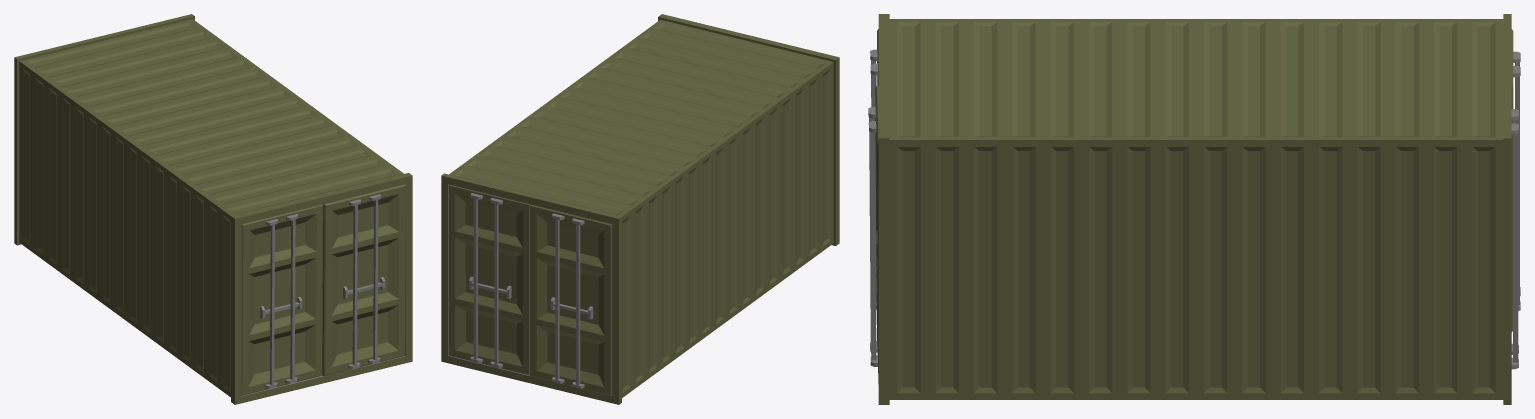
Rendered from model_cargo_container_green.fbx.
3 views of the same model, side by side, from view 1: azimuth 30°, elevation 25°; view 2: azimuth 150°, elevation 25°; view 3: azimuth 270°, elevation 25° (orthographic). The views are drawn at different scales.
Visible parts, largest first — view 1: model_cargo_container_green, model_cargo_container_door4, model_cargo_container_door3; view 2: model_cargo_container_green, model_cargo_container_door2, model_cargo_container_door1; view 3: model_cargo_container_green, model_cargo_container_door4, model_cargo_container_door1, model_cargo_container_door2, model_cargo_container_door3.
Boxes of the visible parts, x1=… form: model_cargo_container_green: x1=14, y1=14, x2=412, y2=404; model_cargo_container_door4: x1=322, y1=184, x2=405, y2=376; model_cargo_container_door3: x1=241, y1=204, x2=323, y2=395; model_cargo_container_green: x1=441, y1=14, x2=839, y2=404; model_cargo_container_door2: x1=530, y1=204, x2=612, y2=396; model_cargo_container_door1: x1=448, y1=184, x2=529, y2=375; model_cargo_container_green: x1=878, y1=14, x2=1511, y2=404; model_cargo_container_door4: x1=868, y1=86, x2=878, y2=383; model_cargo_container_door1: x1=1511, y1=109, x2=1518, y2=369; model_cargo_container_door2: x1=1511, y1=29, x2=1520, y2=331; model_cargo_container_door3: x1=870, y1=29, x2=878, y2=309.
Bounding box in the file's own units: 395 × 395 × 876.
1 material, 1 textured.
